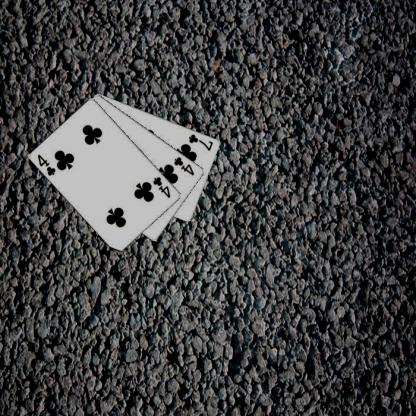4C: (171, 154, 196, 176), (150, 174, 172, 199), (35, 152, 57, 177)
7C: (186, 131, 215, 152)
